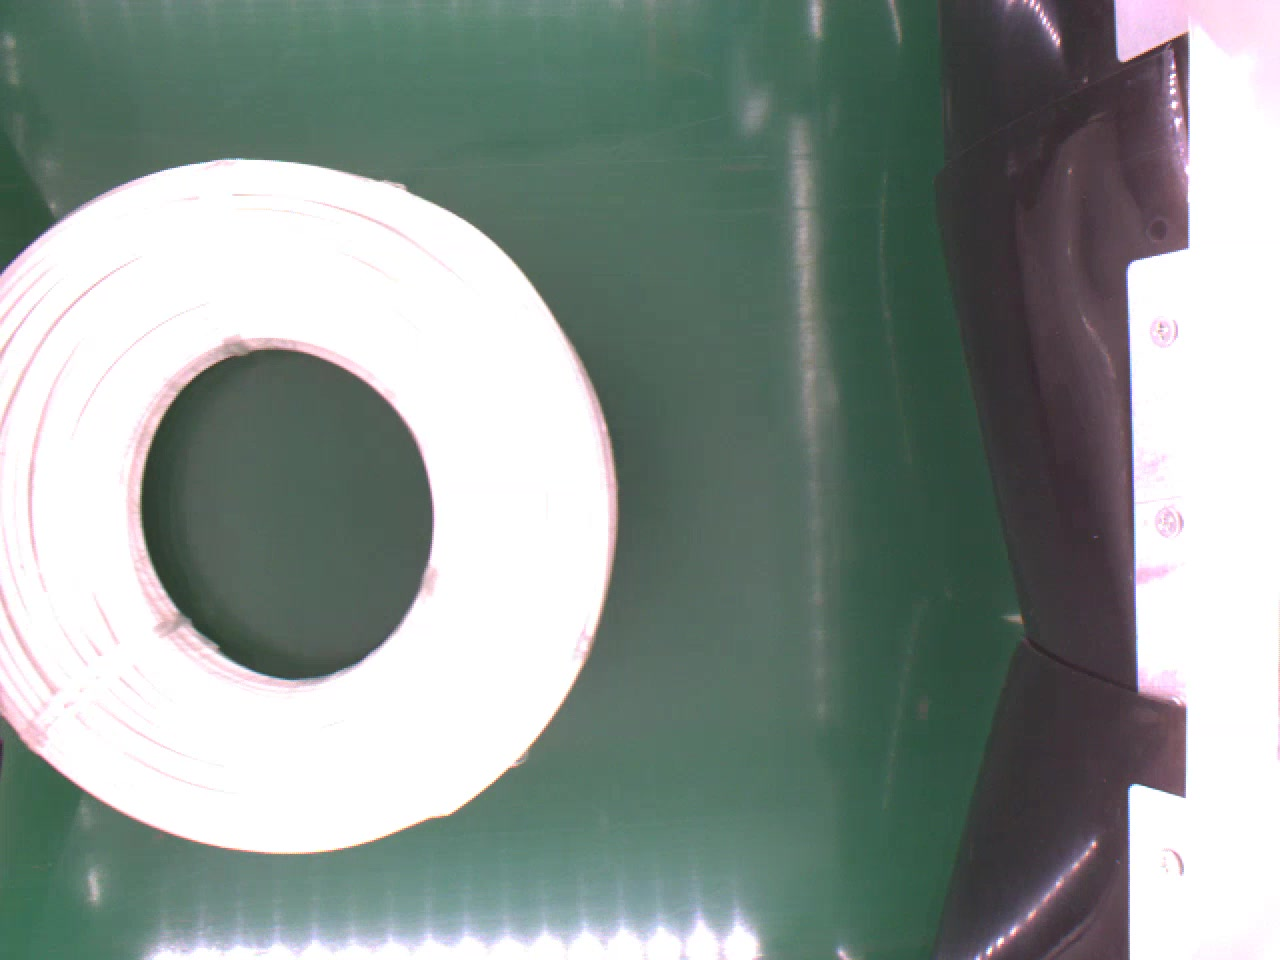white: (0, 151, 622, 856)
